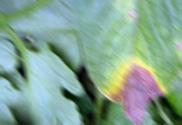Tomato Early blight leaf: (57, 0, 182, 125)
